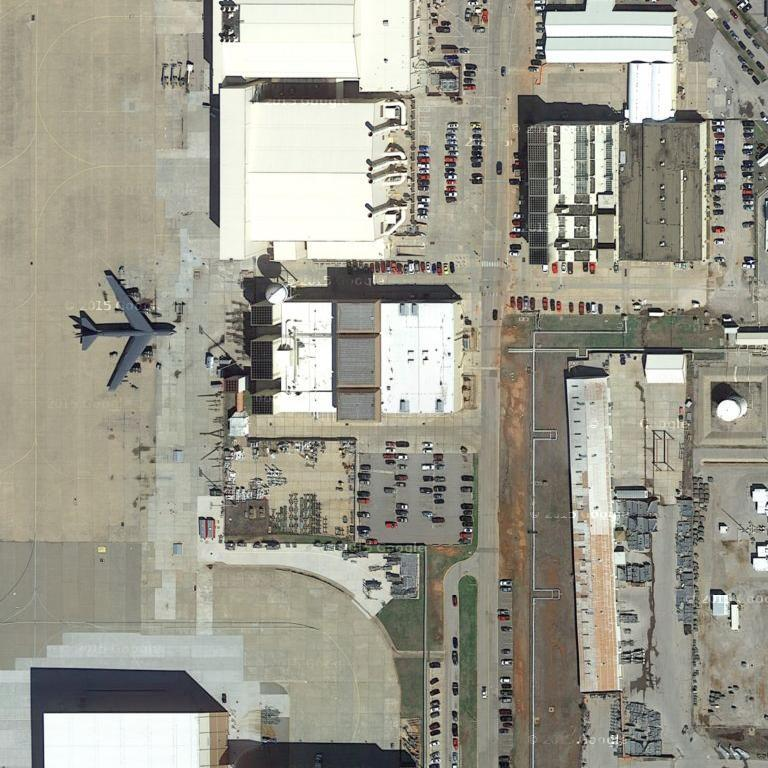B-52: (69, 266, 177, 392)
